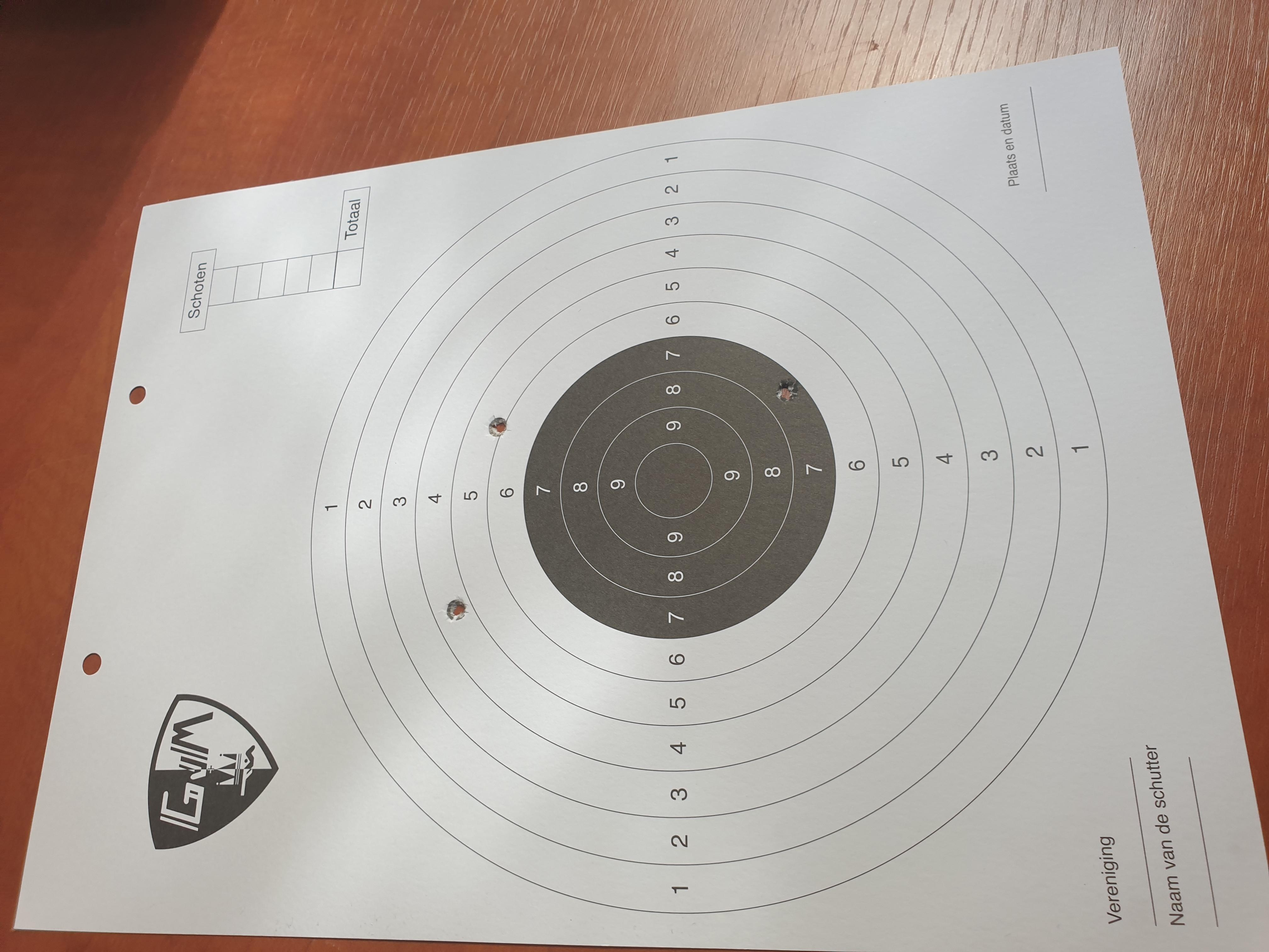hole: (466, 547, 496, 573), (799, 328, 825, 357), (759, 512, 785, 538)
